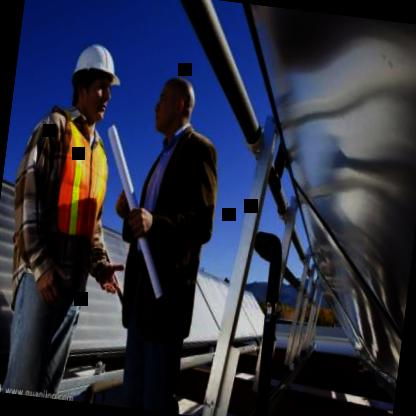head: (145, 70, 201, 140)
helmet: (62, 31, 125, 131)
